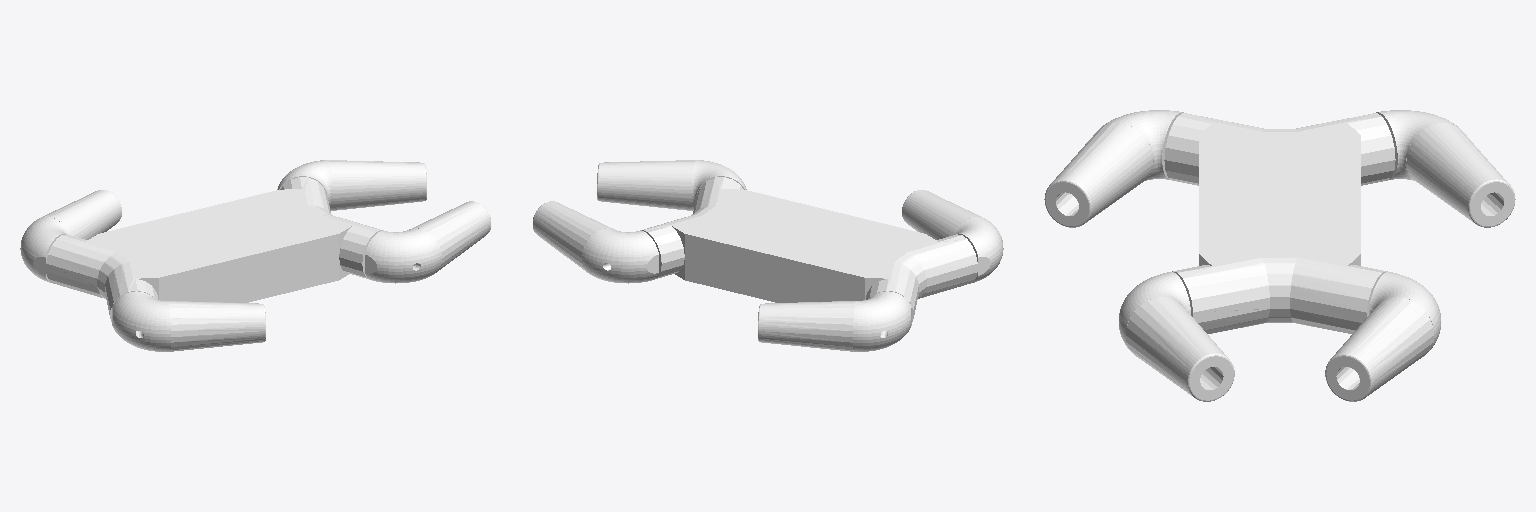
URDF robot description (25_degree):
<?xml version="1.0" encoding="utf-8"?>
<!-- This URDF was automatically created by SolidWorks to URDF Exporter! Originally created by [author] ([email redacted]) 
     Commit Version: 1.5.1-0-g916b5db  Build Version: 1.5.7152.31018
     For more information, please see http://wiki.ros.org/sw_urdf_exporter -->
<robot
  name="25_degree">
  <link
    name="base_link">
    <inertial>
      <origin
        xyz="4.1633E-17 4.9797E-08 1.2481E-08"
        rpy="0 0 0" />
      <mass
        value="2.942" />
      <inertia
        ixx="0.0095151"
        ixy="-2.2418E-10"
        ixz="-1.5348E-10"
        iyy="0.0475167"
        iyz="-4.739E-18"
        izz="0.0546048" />
    </inertial>
    <visual>
      <origin
        xyz="0 0 0"
        rpy="0 0 0" />
      <geometry>
        <mesh
          filename="package://25_degree/meshes/base_link.STL" />
      </geometry>
      <material
        name="">
        <color
          rgba="1 1 1 1" />
      </material>
    </visual>
    <collision>
      <origin
        xyz="0 0 0"
        rpy="0 0 0" />
      <geometry>
        <mesh
          filename="package://25_degree/meshes/base_link.STL" />
      </geometry>
    </collision>
  </link>
  <link
    name="left_front_link">
    <inertial>
      <origin
        xyz="-9.3428E-08 0.066727 -0.0086175"
        rpy="0 0 0" />
      <mass
        value="0.092" />
      <inertia
        ixx="0.0002604"
        ixy="3.7311E-10"
        ixz="5.0312E-10"
        iyy="0.0000718"
        iyz="-0.0000639"
        izz="0.0002383" />
    </inertial>
    <visual>
      <origin
        xyz="0 0 0"
        rpy="0 0 0" />
      <geometry>
        <mesh
          filename="package://25_degree/meshes/left_front_link.STL" />
      </geometry>
      <material
        name="">
        <color
          rgba="1 1 1 1" />
      </material>
    </visual>
    <collision>
      <origin
        xyz="0 0 0"
        rpy="0 0 0" />
      <geometry>
        <mesh
          filename="package://25_degree/meshes/left_front_link.STL" />
      </geometry>
    </collision>
  </link>
  <joint
    name="left_front_leg"
    type="continuous">
    <origin
      xyz="0.17353 0.09335 0"
      rpy="1.5708 1.5708 0" />
    <parent
      link="base_link" />
    <child
      link="left_front_link" />
    <axis
      xyz="0 0.42262 -0.90631" />
    <limit
      effort="5"
      velocity="487" />
  </joint>
  <link
    name="right_front_link">
    <inertial>
      <origin
        xyz="9.3428E-08 0.066727 0.0086175"
        rpy="0 0 0" />
      <mass
        value="0.092" />
      <inertia
        ixx="0.0002604"
        ixy="-3.7311E-10"
        ixz="5.0312E-10"
        iyy="0.0000718"
        iyz="0.0000639"
        izz="0.0002383" />
    </inertial>
    <visual>
      <origin
        xyz="0 0 0"
        rpy="0 0 0" />
      <geometry>
        <mesh
          filename="package://25_degree/meshes/right_front_link.STL" />
      </geometry>
      <material
        name="">
        <color
          rgba="1 1 1 1" />
      </material>
    </visual>
    <collision>
      <origin
        xyz="0 0 0"
        rpy="0 0 0" />
      <geometry>
        <mesh
          filename="package://25_degree/meshes/right_front_link.STL" />
      </geometry>
    </collision>
  </link>
  <joint
    name="right_front_leg"
    type="continuous">
    <origin
      xyz="0.17353 -0.09335 0"
      rpy="1.5708 1.5708 0" />
    <parent
      link="base_link" />
    <child
      link="right_front_link" />
    <axis
      xyz="0 0.42262 0.90631" />
    <limit
      effort="5"
      velocity="487" />
  </joint>
  <link
    name="right_back_link">
    <inertial>
      <origin
        xyz="1.0051E-07 0.056834 0.03601"
        rpy="0 0 0" />
      <mass
        value="0.092" />
      <inertia
        ixx="0.0002604"
        ixy="-5.1629E-10"
        ixz="1.9101E-10"
        iyy="0.0000526"
        iyz="-2.27E-05"
        izz="0.0002575" />
    </inertial>
    <visual>
      <origin
        xyz="0 0 0"
        rpy="0 0 0" />
      <geometry>
        <mesh
          filename="package://25_degree/meshes/right_back_link.STL" />
      </geometry>
      <material
        name="">
        <color
          rgba="1 1 1 1" />
      </material>
    </visual>
    <collision>
      <origin
        xyz="0 0 0"
        rpy="0 0 0" />
      <geometry>
        <mesh
          filename="package://25_degree/meshes/right_back_link.STL" />
      </geometry>
    </collision>
  </link>
  <joint
    name="right_back_leg"
    type="continuous">
    <origin
      xyz="-0.17353 -0.09335 0"
      rpy="2.0071 1.5708 0" />
    <parent
      link="base_link" />
    <child
      link="right_back_link" />
    <axis
      xyz="0 0 1" />
    <limit
      effort="5"
      velocity="487" />
  </joint>
  <link
    name="left_back_link">
    <inertial>
      <origin
        xyz="-1.0051E-07 0.036291 -0.056656"
        rpy="0 0 0" />
      <mass
        value="0.092" />
      <inertia
        ixx="0.0002604"
        ixy="5.4864E-10"
        ixz="-4.5077E-11"
        iyy="0.0001066"
        iyz="0.0000931"
        izz="0.0002036" />
    </inertial>
    <visual>
      <origin
        xyz="0 0 0"
        rpy="0 0 0" />
      <geometry>
        <mesh
          filename="package://25_degree/meshes/left_back_link.STL" />
      </geometry>
      <material
        name="">
        <color
          rgba="1 1 1 1" />
      </material>
    </visual>
    <collision>
      <origin
        xyz="0 0 0"
        rpy="0 0 0" />
      <geometry>
        <mesh
          filename="package://25_degree/meshes/left_back_link.STL" />
      </geometry>
    </collision>
  </link>
  <joint
    name="left_back_leg"
    type="continuous">
    <origin
      xyz="-0.17353 0.09335 0"
      rpy="1.5708 1.5708 0" />
    <parent
      link="base_link" />
    <child
      link="left_back_link" />
    <axis
      xyz="0 -0.42262 -0.90631" />
    <limit
      effort="5"
      velocity="487" />
  </joint>
</robot>

--- Render facts (derived) ---
The picture shows the robot from 3 angles, left to right: view 1: azimuth 30°, elevation 25°; view 2: azimuth 150°, elevation 25°; view 3: azimuth 270°, elevation 25°; orthographic projection.
Robot: 25_degree — 5 links, 4 joints (4 continuous); root link base_link; default pose: every joint at zero.
Visible links, largest first — view 1: base_link, right_back_link, right_front_link, left_front_link, left_back_link; view 2: base_link, left_back_link, left_front_link, right_front_link, right_back_link; view 3: base_link, right_back_link, left_back_link, left_front_link, right_front_link.
Link boxes in pixels (x1=…): base_link: x1=46, y1=177, x2=383, y2=321; right_back_link: x1=112, y1=291, x2=265, y2=351; right_front_link: x1=365, y1=201, x2=490, y2=283; left_front_link: x1=277, y1=160, x2=426, y2=210; left_back_link: x1=20, y1=190, x2=121, y2=282; base_link: x1=640, y1=177, x2=977, y2=321; left_back_link: x1=758, y1=291, x2=911, y2=351; left_front_link: x1=533, y1=201, x2=658, y2=283; right_front_link: x1=597, y1=160, x2=746, y2=210; right_back_link: x1=902, y1=190, x2=1003, y2=282; base_link: x1=1164, y1=113, x2=1395, y2=333; right_back_link: x1=1044, y1=110, x2=1183, y2=227; left_back_link: x1=1376, y1=110, x2=1515, y2=227; left_front_link: x1=1325, y1=272, x2=1440, y2=401; right_front_link: x1=1119, y1=272, x2=1234, y2=401.
Size in the robot's own frame: 0.5533 by 0.4355 by 0.064 metres.
Meshes: 5 distinct files referenced, 5 mesh visuals loaded (5 binary STL).